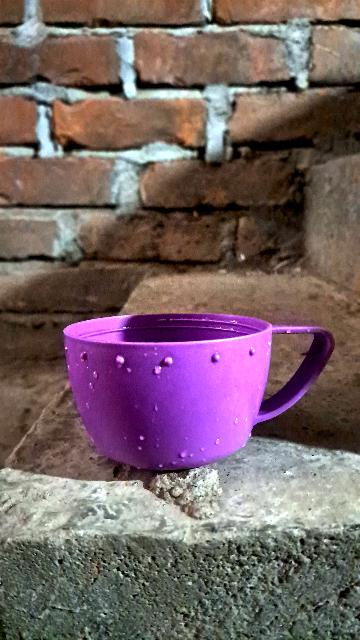hardplastic: (67, 314, 324, 462)
